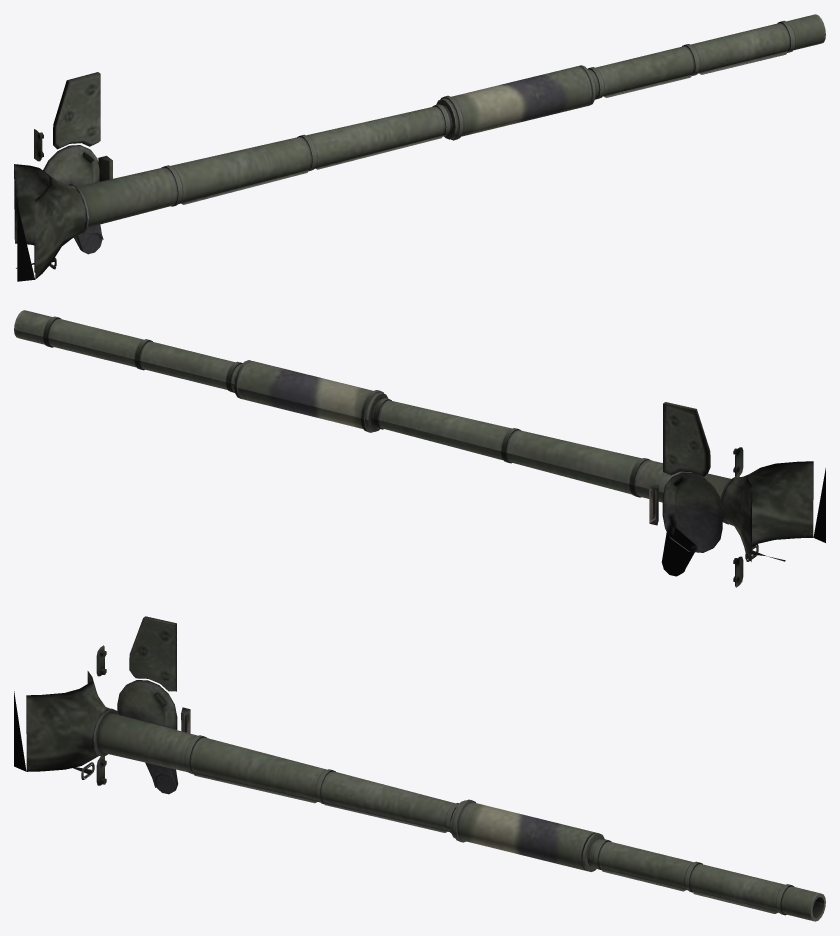
File: gun.gltf
The picture shows the model from 3 angles, top to bottom: view 1: azimuth 30°, elevation 25°; view 2: azimuth 150°, elevation 25°; view 3: azimuth 330°, elevation 25°; orthographic projection. The views are drawn at different scales.
Visible parts, largest first — view 1: gun; view 2: gun; view 3: gun.
Boxes of the visible parts, x1,y1,x2,y2 form: gun: (14,14,825,281); gun: (14,310,825,587); gun: (14,616,825,921).
Size of the model in its own units: 5.3 by 1.11 by 0.5556.
1 material, 1 textured.
